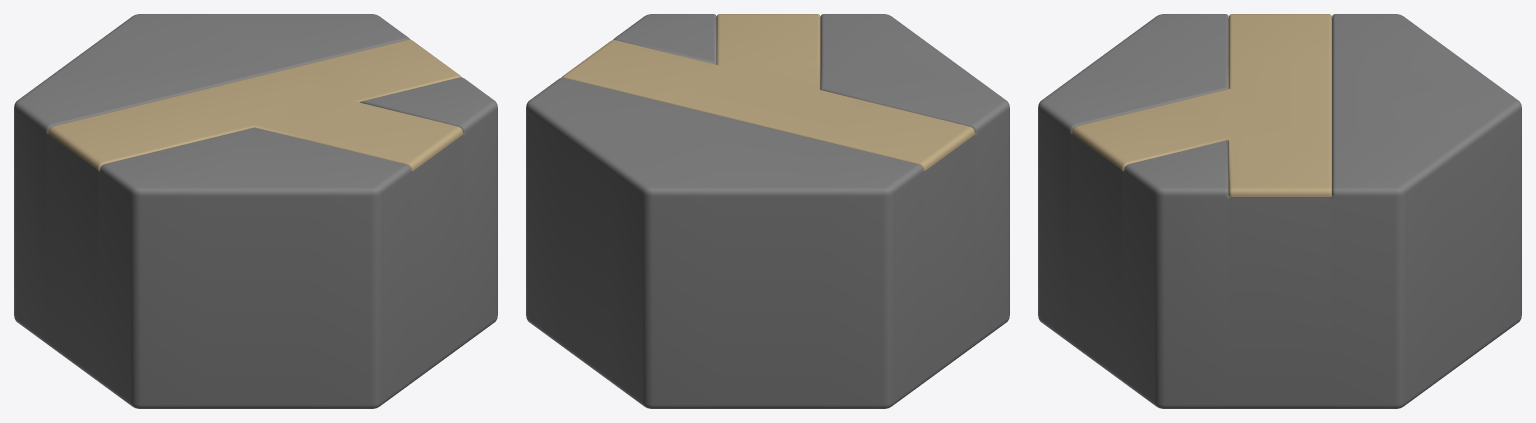
The model's file is Road4.fbx.
3 views of the same model, side by side, from view 1: azimuth 30°, elevation 25°; view 2: azimuth 150°, elevation 25°; view 3: azimuth 270°, elevation 25° (orthographic).
Visible parts, largest first — view 1: Cylinder033; view 2: Cylinder033; view 3: Cylinder033.
Part boxes in pixels (x1,y1,x2,y2): Cylinder033: (14, 14, 497, 408); Cylinder033: (526, 14, 1009, 408); Cylinder033: (1038, 14, 1521, 408).
Bounding box in the file's own units: 173 × 100 × 199.
